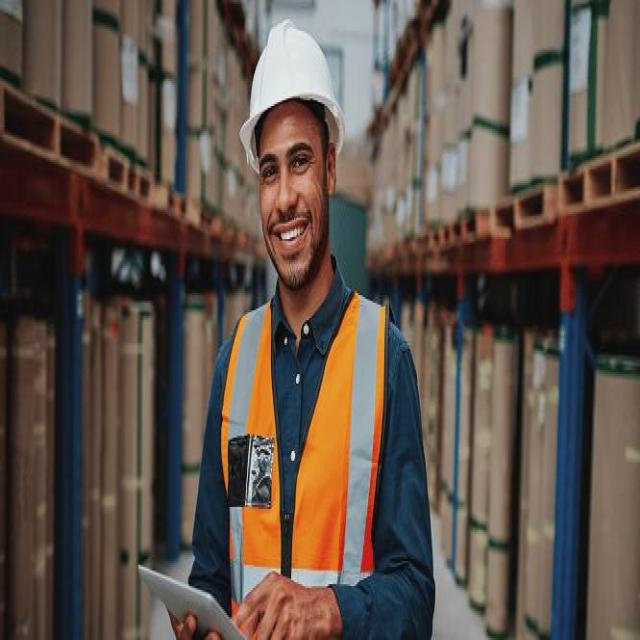Reflective-Jacket: (208, 281, 402, 640)
Safety-Helmet: (238, 12, 348, 160)
